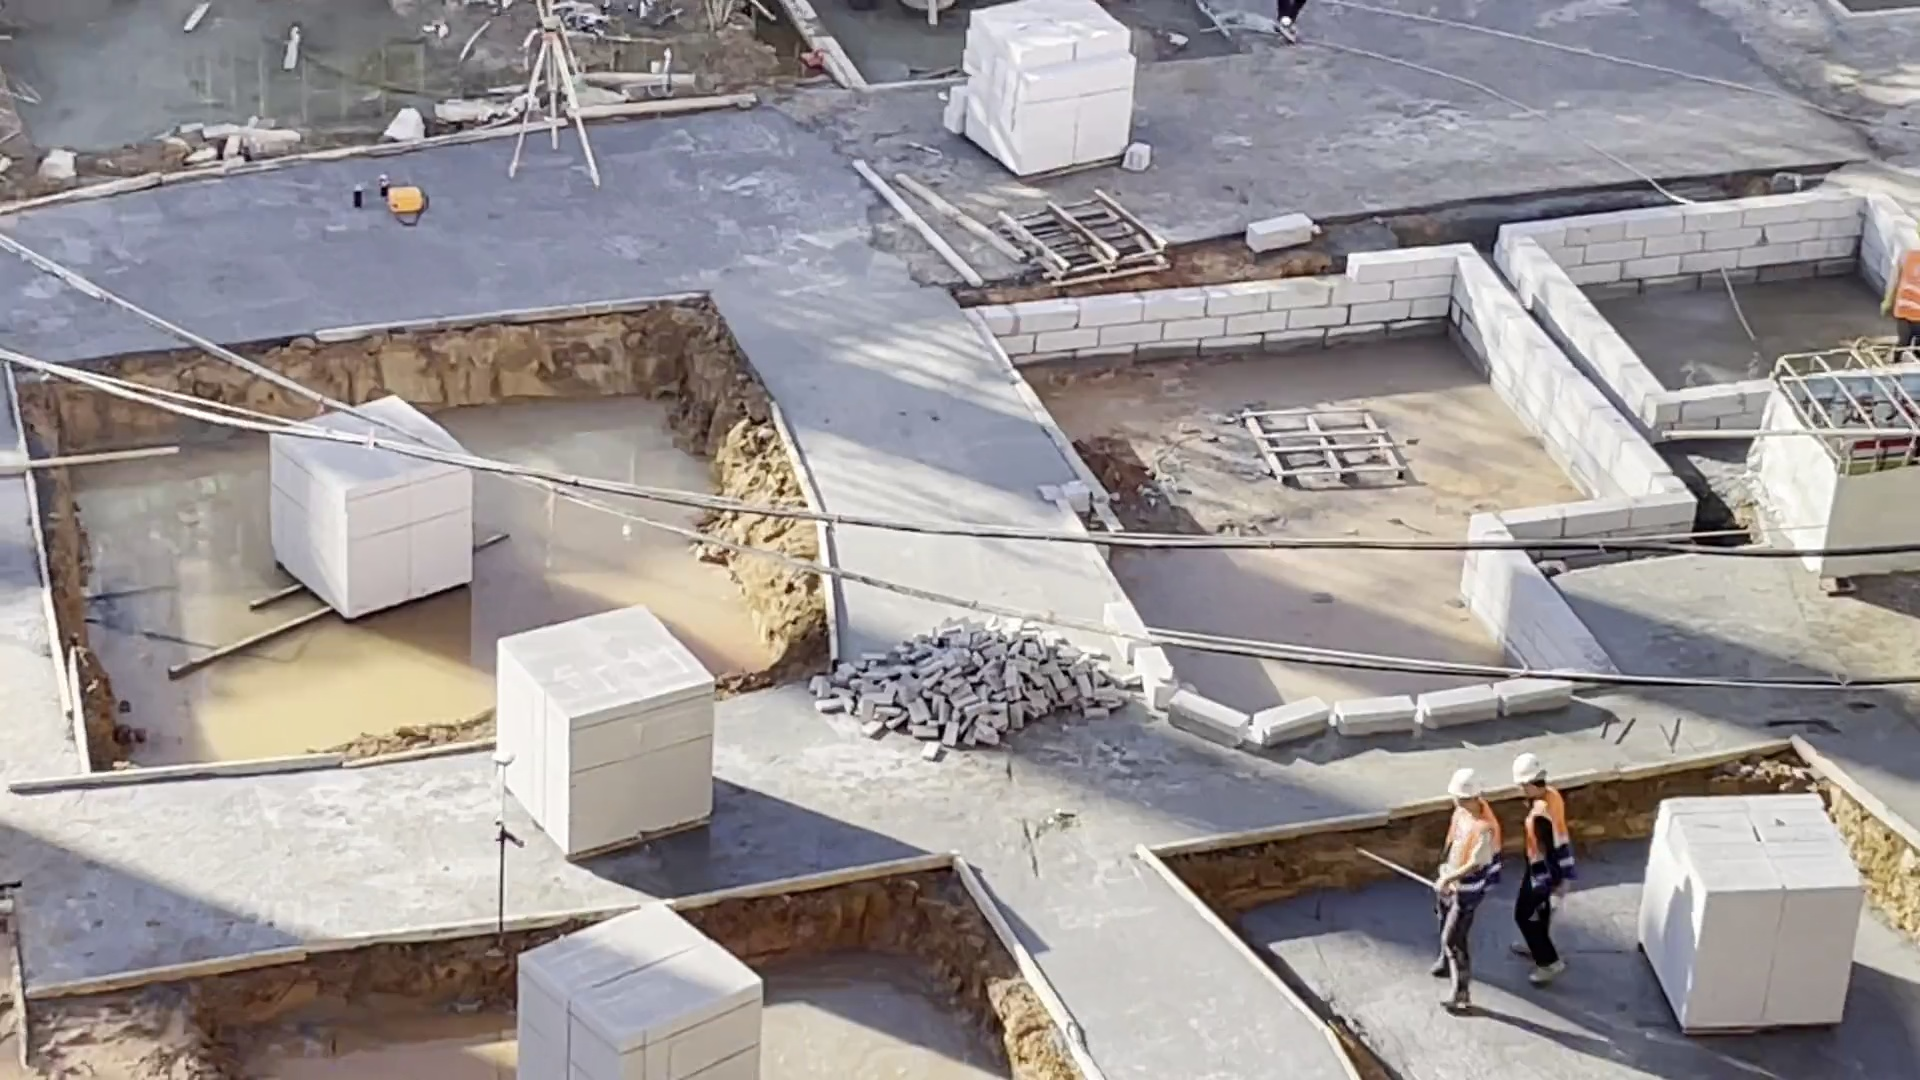brick: (497, 595, 723, 863), (1642, 785, 1862, 1041), (515, 898, 765, 1080), (261, 460, 482, 631), (958, 9, 1130, 178)
helmet: (1438, 767, 1485, 806), (1512, 757, 1549, 789)
person: (1432, 765, 1507, 1019), (1506, 752, 1577, 989), (1880, 243, 1920, 345), (1269, 2, 1317, 43)
vest: (1436, 809, 1501, 901), (1529, 791, 1575, 893), (1891, 250, 1920, 318)
